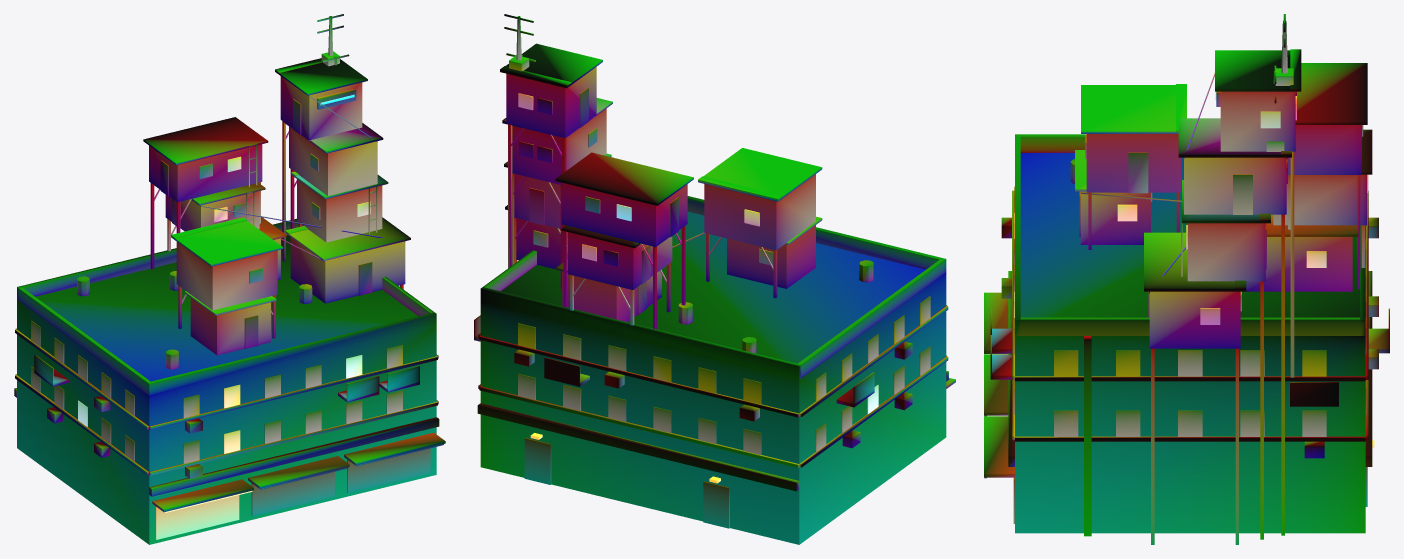
File: Slum_Stack.fbx
The picture shows the model from 3 angles, left to right: view 1: azimuth 30°, elevation 25°; view 2: azimuth 150°, elevation 25°; view 3: azimuth 270°, elevation 25°; orthographic projection. The views are drawn at different scales.
Visible parts, largest first — view 1: Slum_Stack_LOD0; view 2: Slum_Stack_LOD0; view 3: Slum_Stack_LOD0.
Part boxes in pixels (<box>): Slum_Stack_LOD0: <box>14,14,445,544</box>; Slum_Stack_LOD0: <box>474,14,955,544</box>; Slum_Stack_LOD0: <box>984,14,1389,544</box>.
Size of what is drawn, in the model's own units: 22.48 by 25.34 by 18.3.
